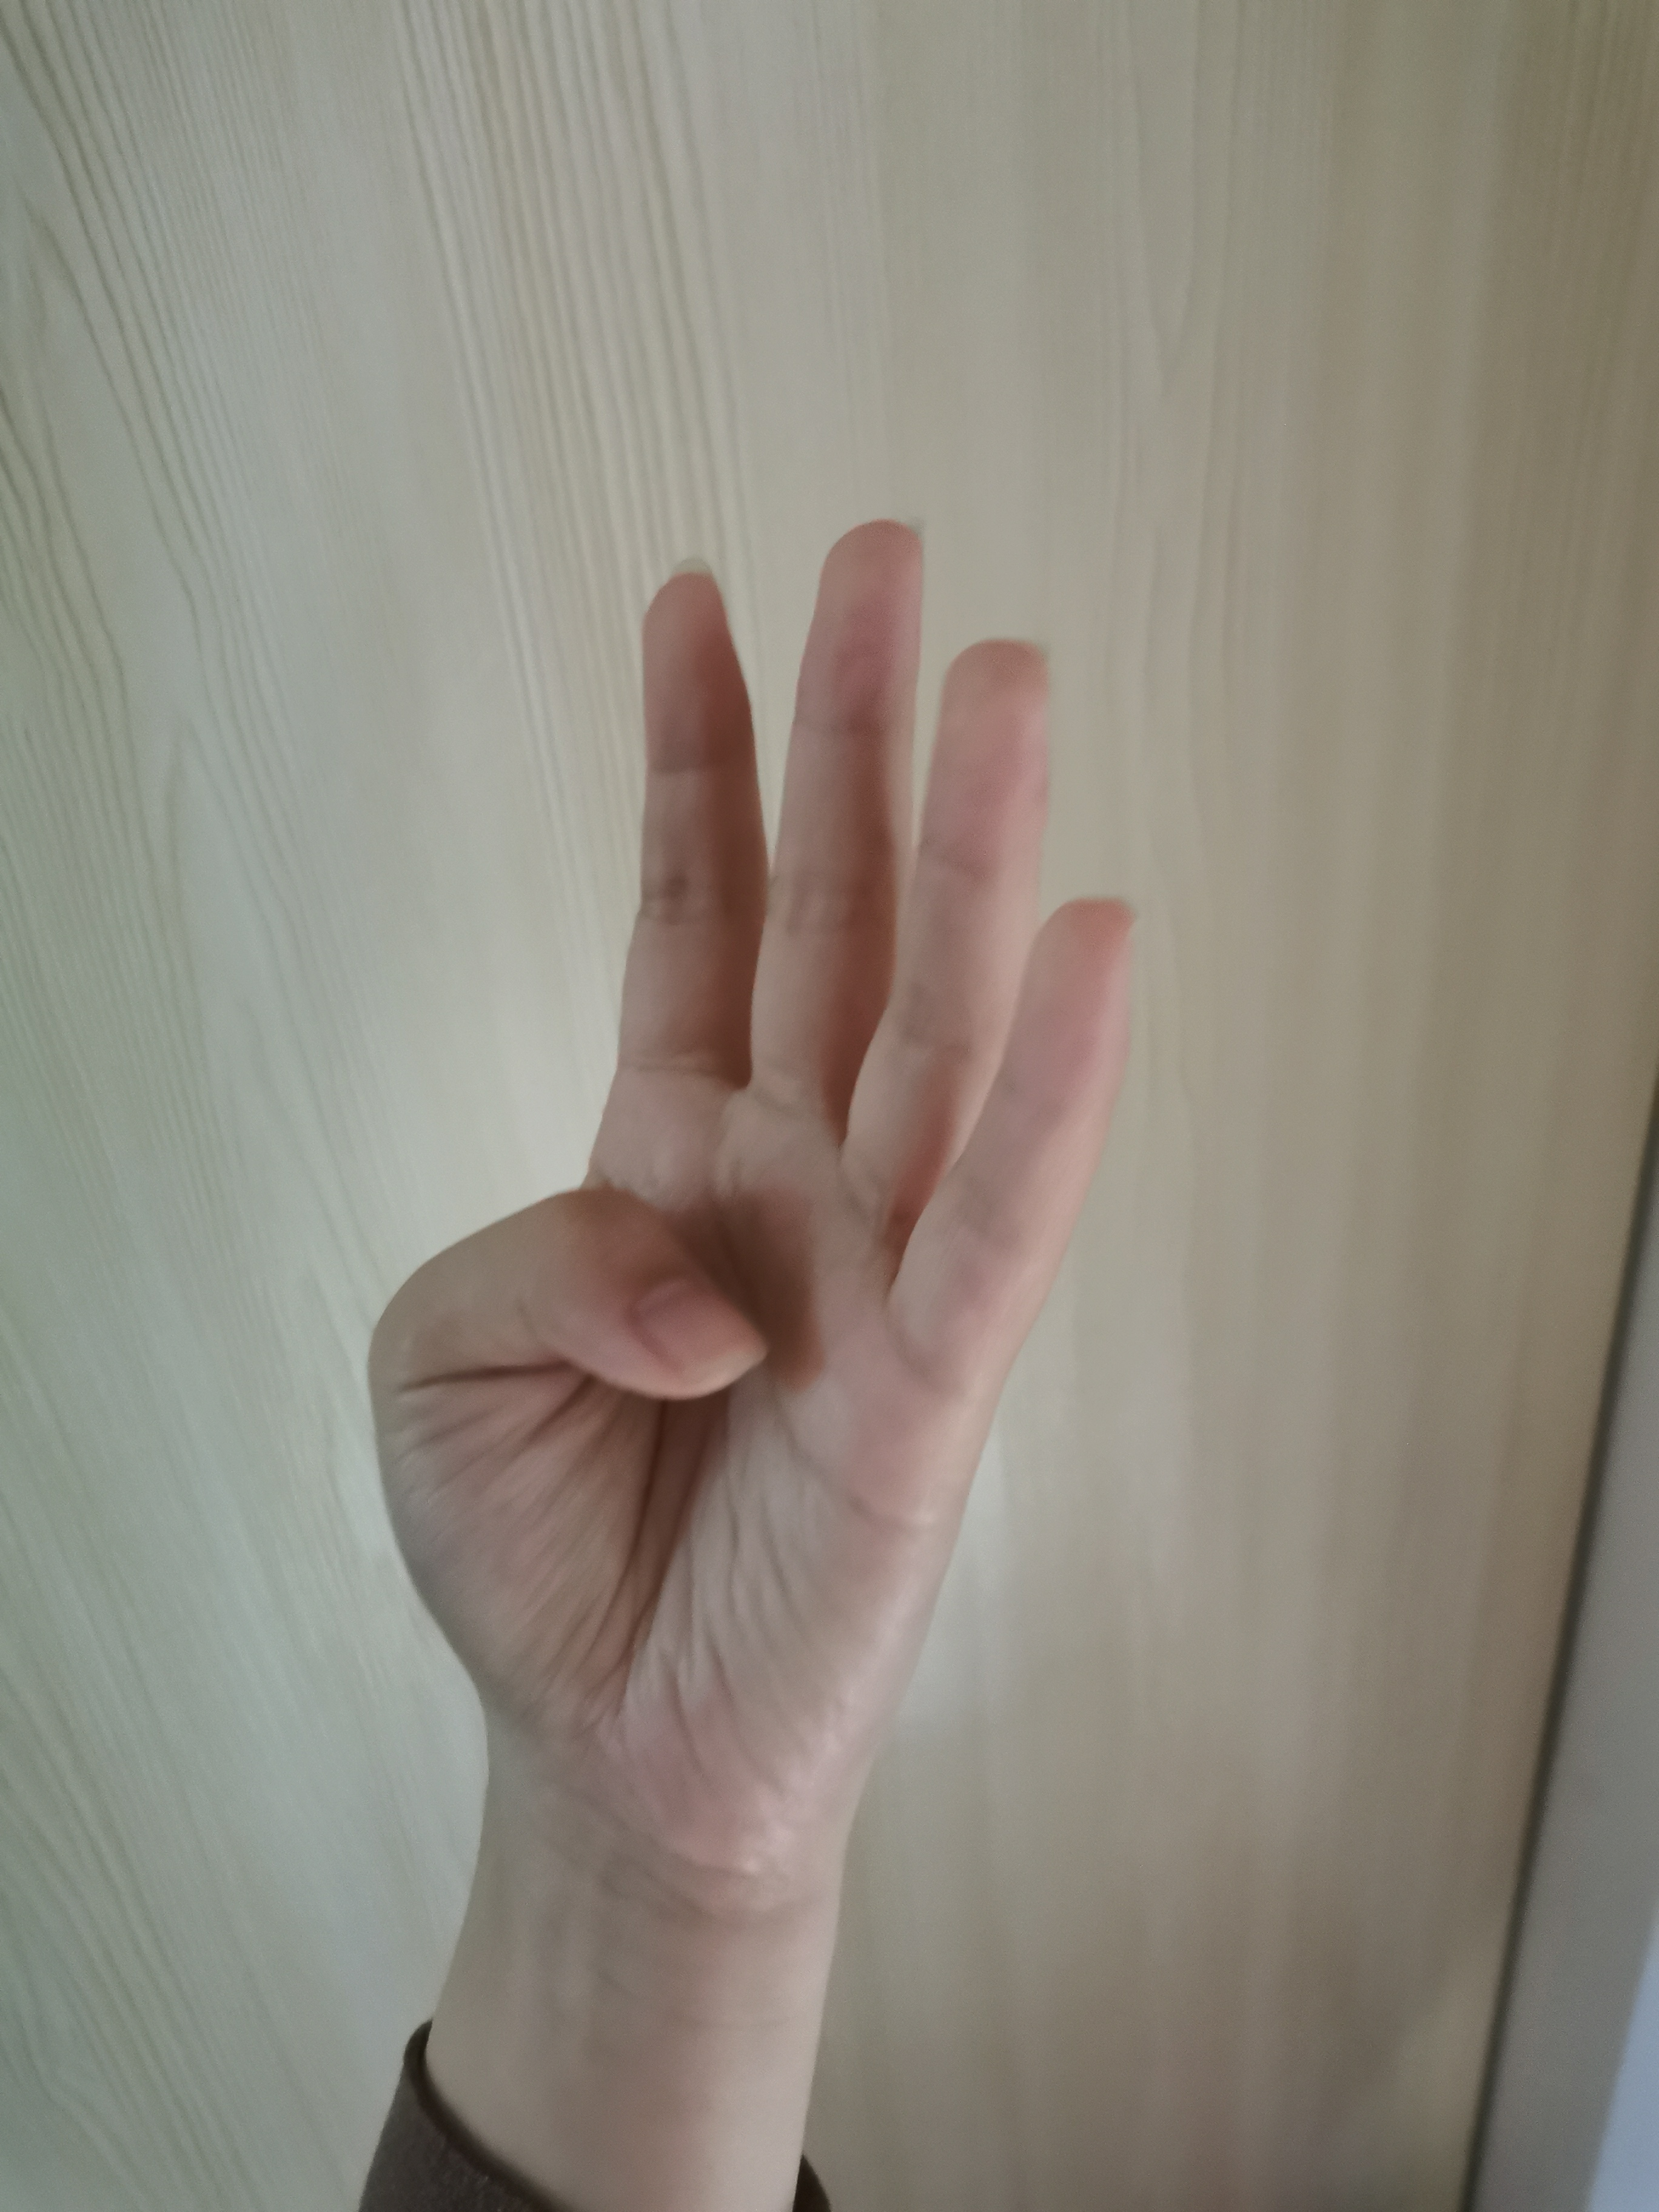right: (349, 505, 1183, 1799)
